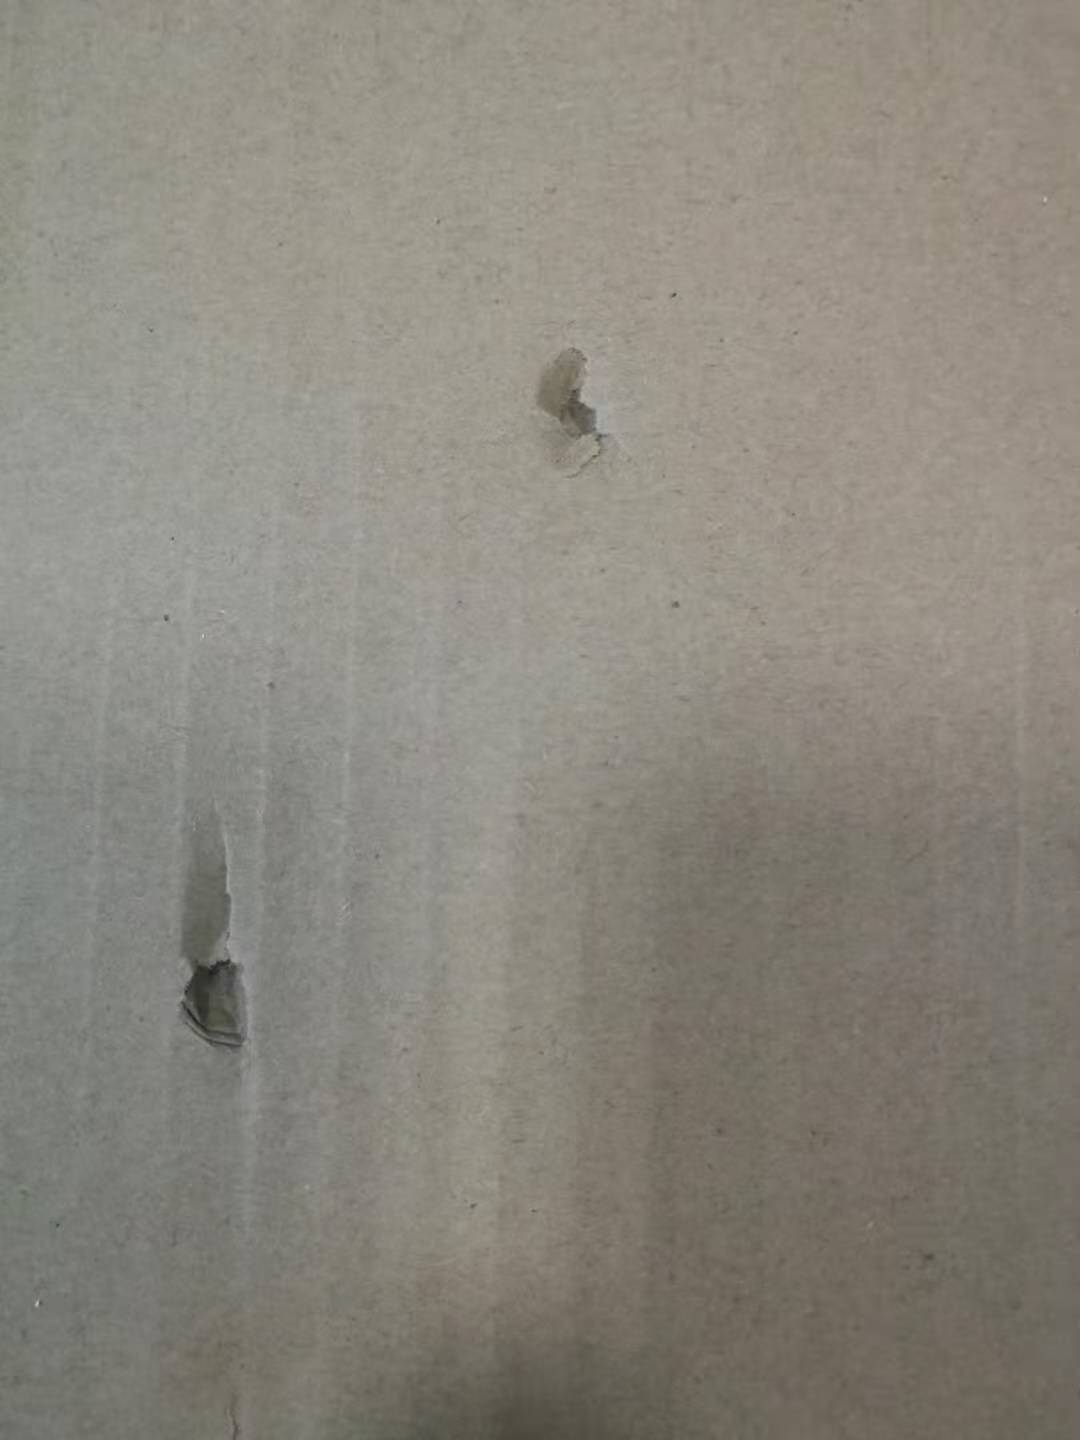defect: (140, 781, 299, 1098), (506, 315, 648, 501)
